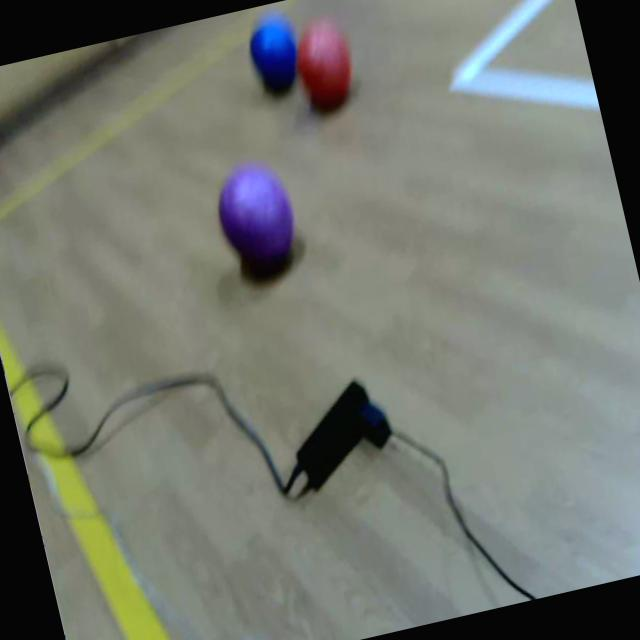blue_ball: (242, 11, 306, 92)
purple_ball: (208, 156, 304, 272)
red_ball: (287, 16, 361, 111)
